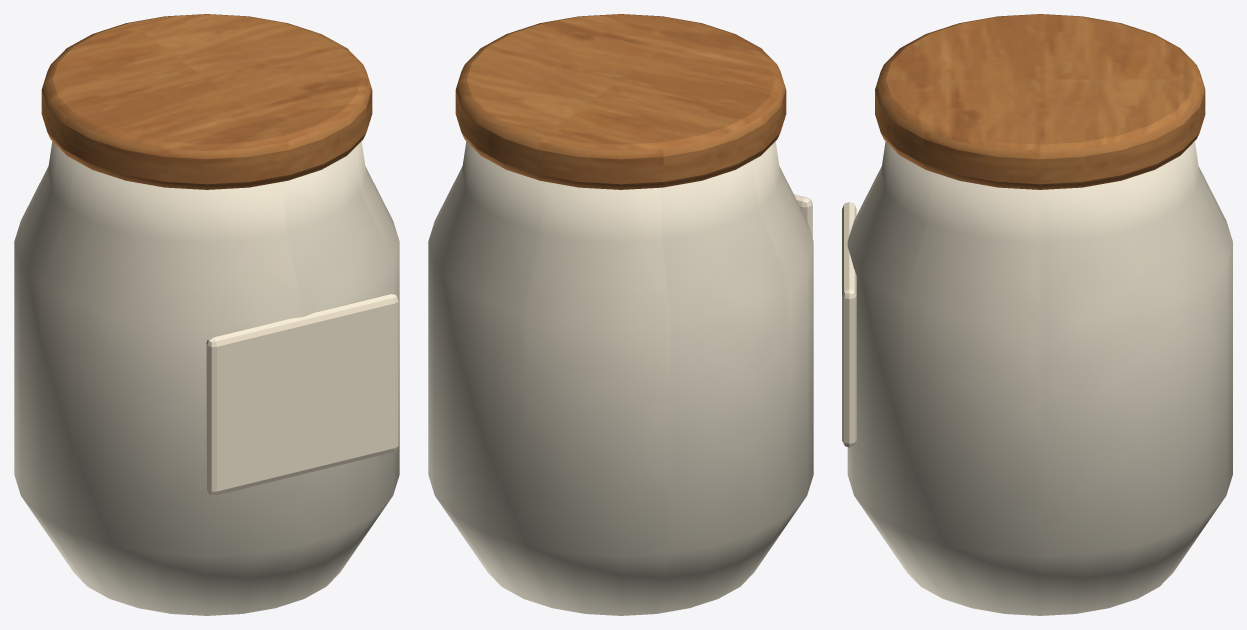
File: WC_CAFE_Ceramic_Jar_A.glb
3 renders of one model, left to right at view 1: azimuth 30°, elevation 25°; view 2: azimuth 150°, elevation 25°; view 3: azimuth 270°, elevation 25°, orthographic.
Parts seen in each view (by area): view 1: WC_CAFE_Ceramic_Jar_A_RenderMesh; view 2: WC_CAFE_Ceramic_Jar_A_RenderMesh; view 3: WC_CAFE_Ceramic_Jar_A_RenderMesh.
Boxes of the visible parts, left/top/right/bottom form: WC_CAFE_Ceramic_Jar_A_RenderMesh: left=14, top=14, right=399, bottom=615; WC_CAFE_Ceramic_Jar_A_RenderMesh: left=428, top=14, right=813, bottom=615; WC_CAFE_Ceramic_Jar_A_RenderMesh: left=842, top=14, right=1232, bottom=615.
Bounding box in the file's own units: 0.21 × 0.2875 × 0.213.
3 materials, 2 textured.
